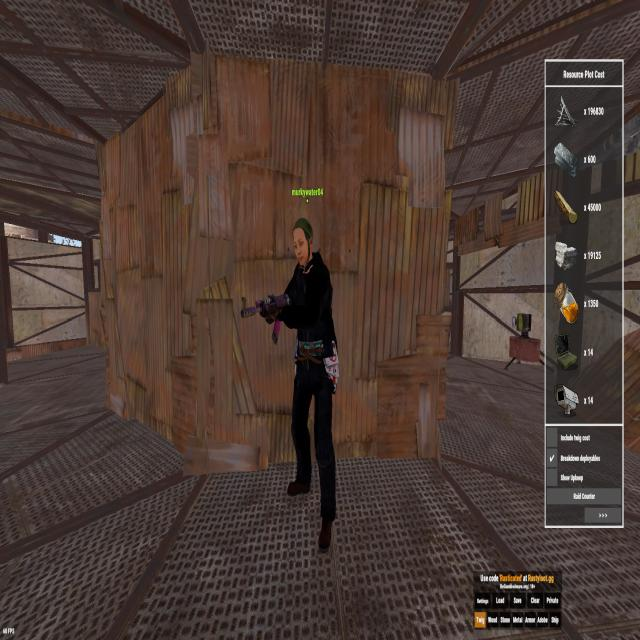Player: (268, 214, 344, 560)
